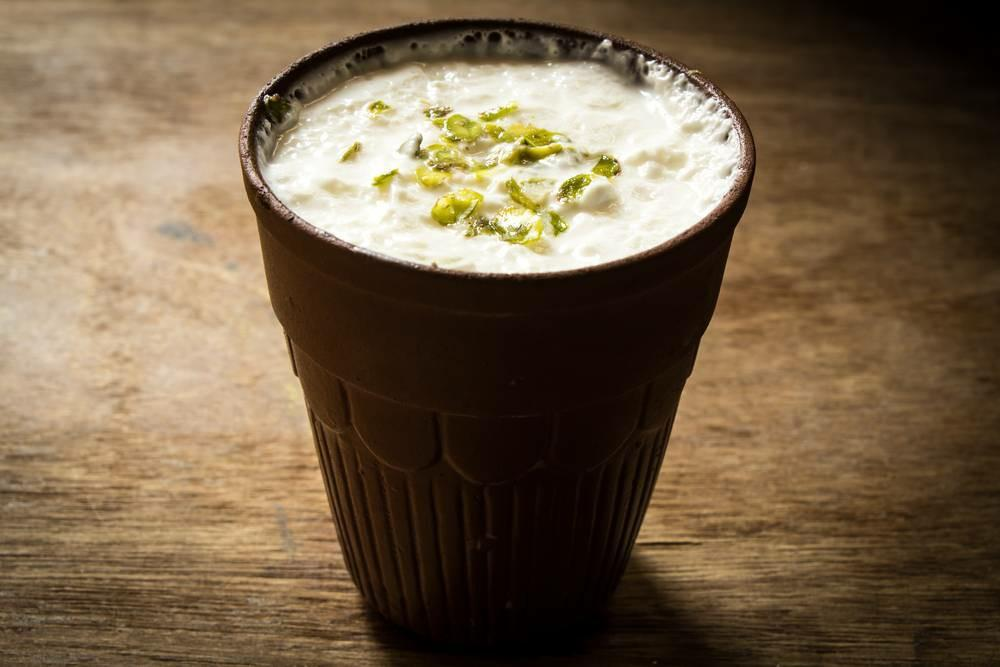Lassi: (249, 34, 739, 273)
